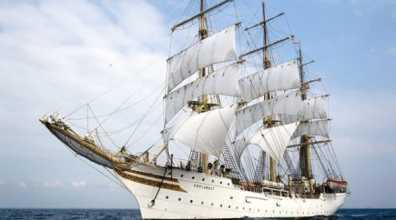fanchuan: (30, 1, 351, 218)
